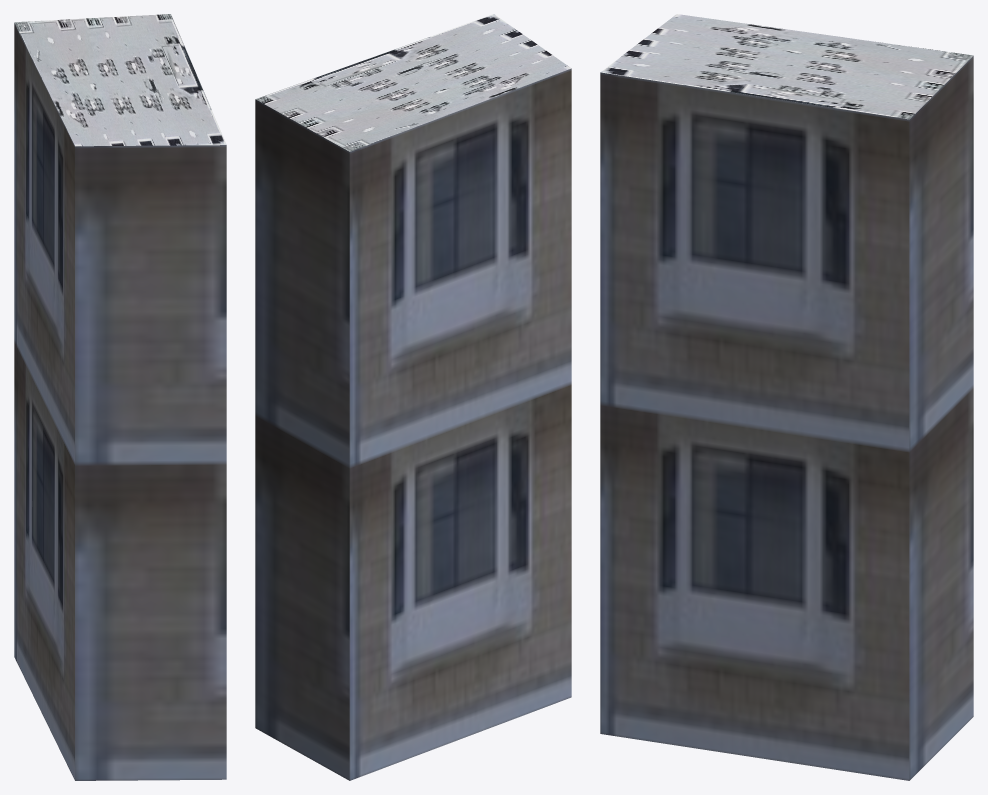
File: ResTex__2556.fbx
3 renders of one model, left to right at view 1: azimuth 30°, elevation 25°; view 2: azimuth 150°, elevation 25°; view 3: azimuth 270°, elevation 25°, orthographic. The views are drawn at different scales.
Parts seen in each view (by area): view 1: CityEngineMaterial_3_m, CityEngineMaterial_m; view 2: CityEngineMaterial_3_m, CityEngineMaterial_m; view 3: CityEngineMaterial_3_m, CityEngineMaterial_m.
Boxes of the visible parts, <box> form: CityEngineMaterial_3_m: <box>14,23,226,780</box>; CityEngineMaterial_m: <box>14,14,226,146</box>; CityEngineMaterial_3_m: <box>255,68,571,780</box>; CityEngineMaterial_m: <box>256,14,571,151</box>; CityEngineMaterial_3_m: <box>600,56,973,780</box>; CityEngineMaterial_m: <box>600,14,973,119</box>.
Size of the model in its own units: 2.05 by 6 by 3.07.
2 materials, 2 textured.
